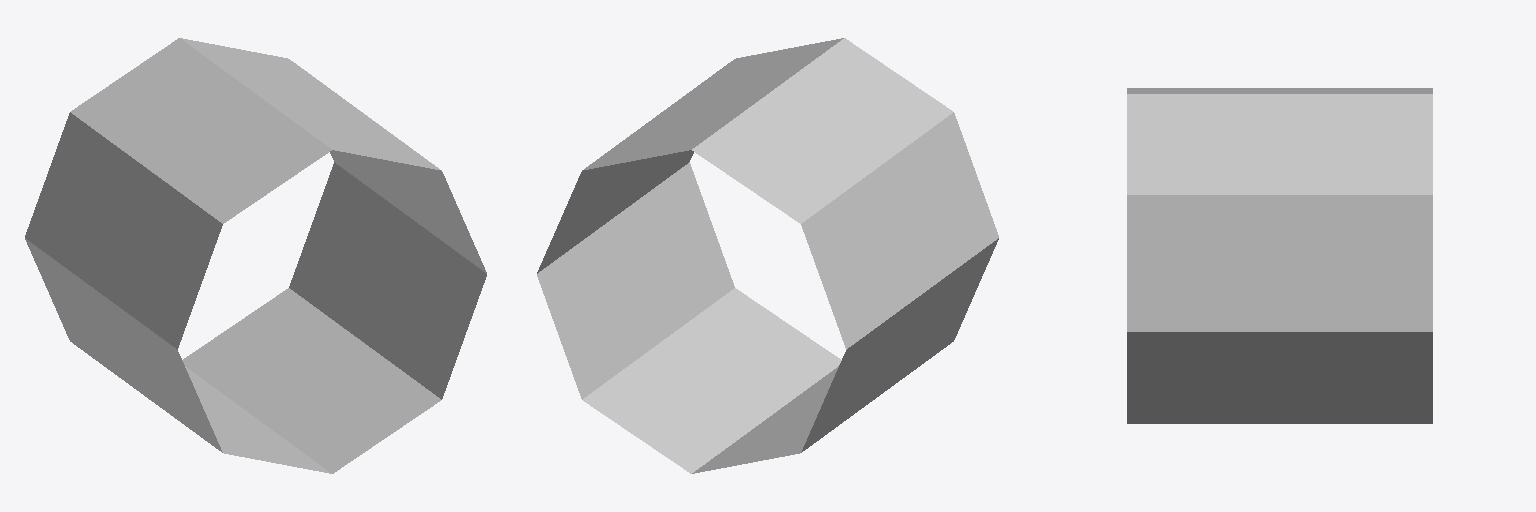
The model's file is original-8.obj.
3 views of the same model, side by side, from view 1: azimuth 30°, elevation 25°; view 2: azimuth 150°, elevation 25°; view 3: azimuth 270°, elevation 25° (orthographic).
Parts seen in each view (by area): view 1: #ID47; view 2: #ID47; view 3: #ID47.
Boxes of the visible parts, <box> form: #ID47: <box>25,38,486,473</box>; #ID47: <box>537,38,998,473</box>; #ID47: <box>1127,88,1432,423</box>.
Size of the model in its own units: 0.0496 by 0.0496 by 0.0425.